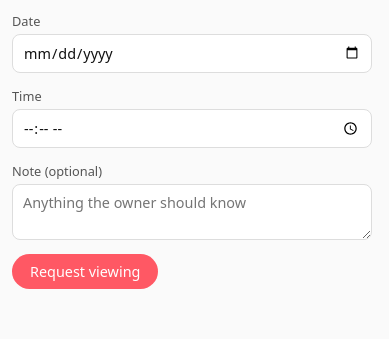
Test case: ViewingForm › shows a confirmation message after a successful request and resets the fields
In the date field labelled "Date": (192, 54) [12,34,372,73], type "2026-09-10"
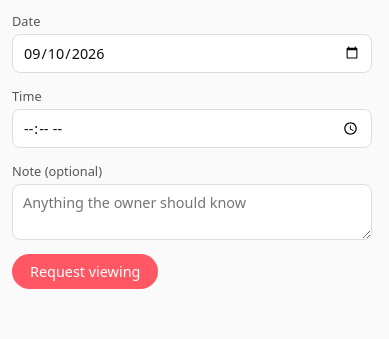
In the time field labelled "Time": (192, 129) [12,109,372,148], type "14:30"
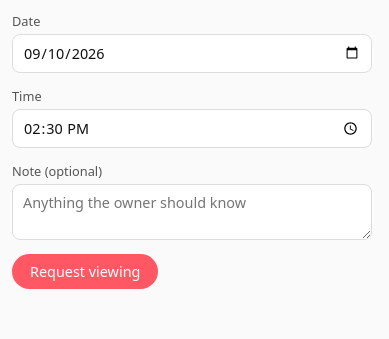
Click the button "Request viewing": (85, 272) [12,254,158,289]
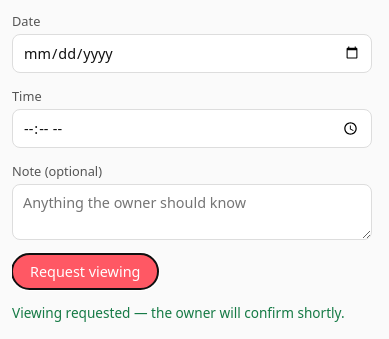
expect the message shows "Viewing requested": met, box [12,303,345,322]
expect the date field labelled "Date" is empty: met, box [12,34,372,73]
expect the time field labelled "Time" is empty: met, box [12,109,372,148]
